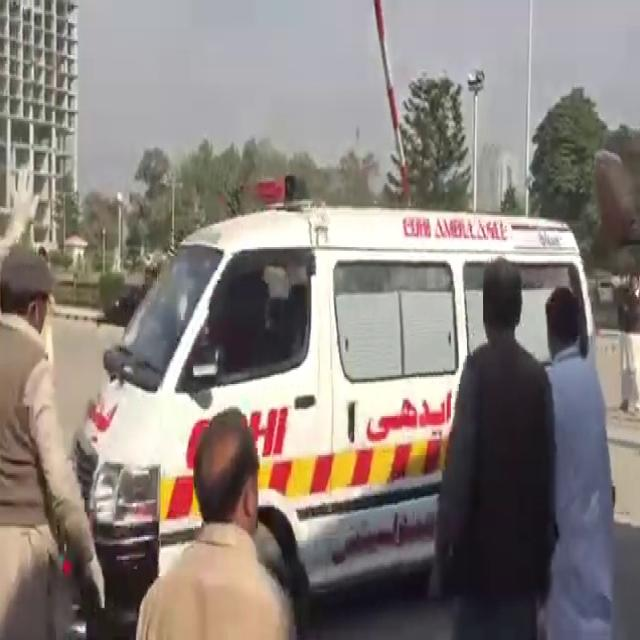ambulance: (69, 220, 586, 571)
